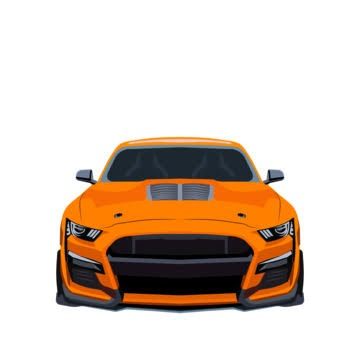car: (62, 150, 302, 307)
